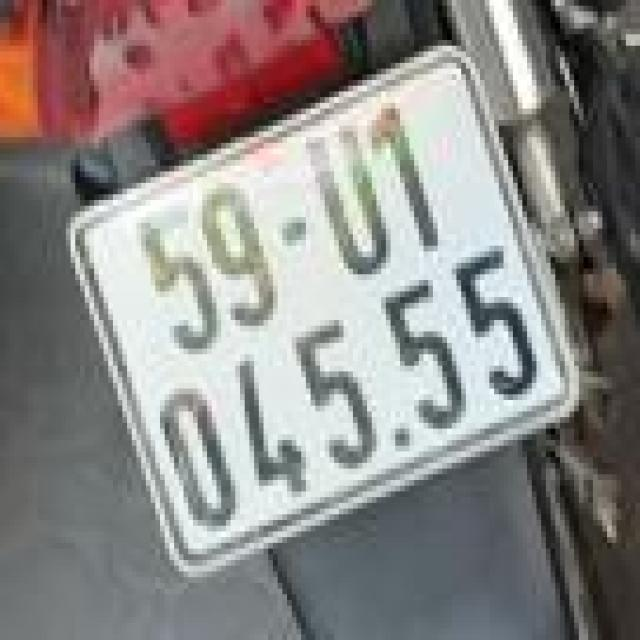0: (148, 373, 262, 561)
1: (365, 86, 452, 283)
4: (212, 338, 325, 512)
5: (278, 304, 406, 494), (442, 229, 557, 419), (125, 188, 237, 373), (368, 269, 482, 443)
9: (193, 173, 294, 348)
U: (283, 102, 403, 299)
